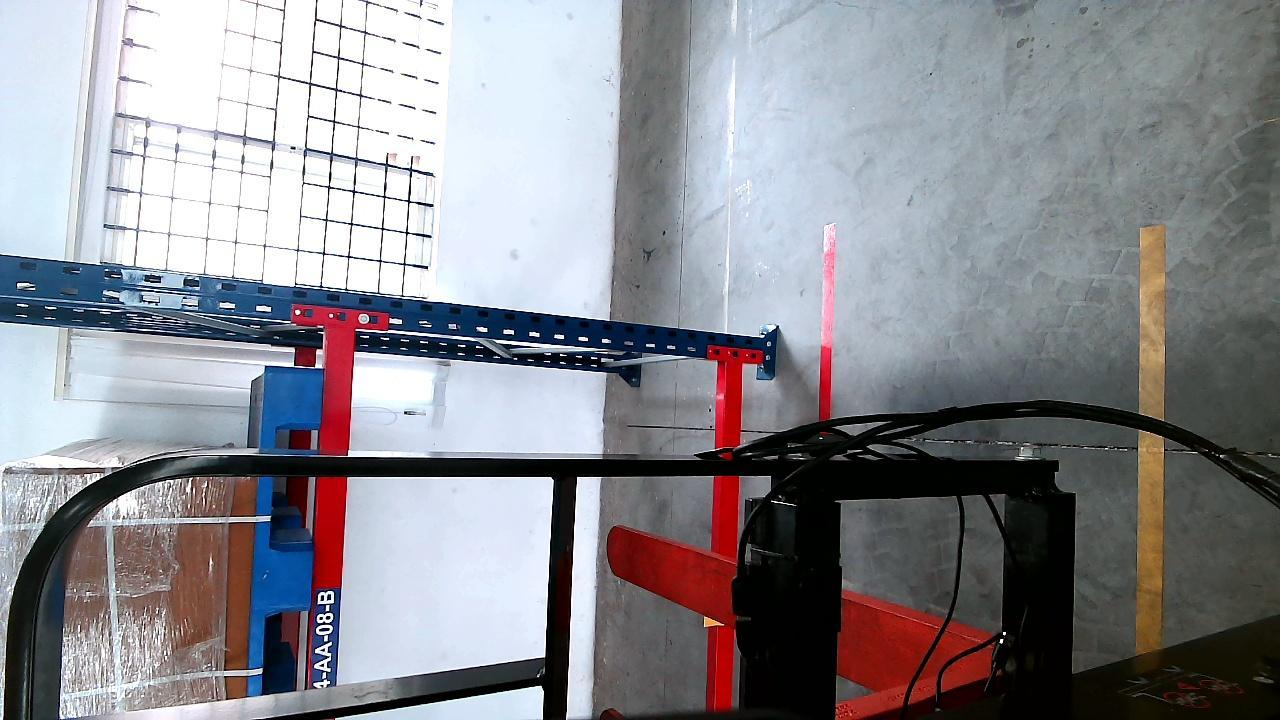red_line: (816, 227, 835, 419)
yellow_line: (1137, 212, 1164, 667)
